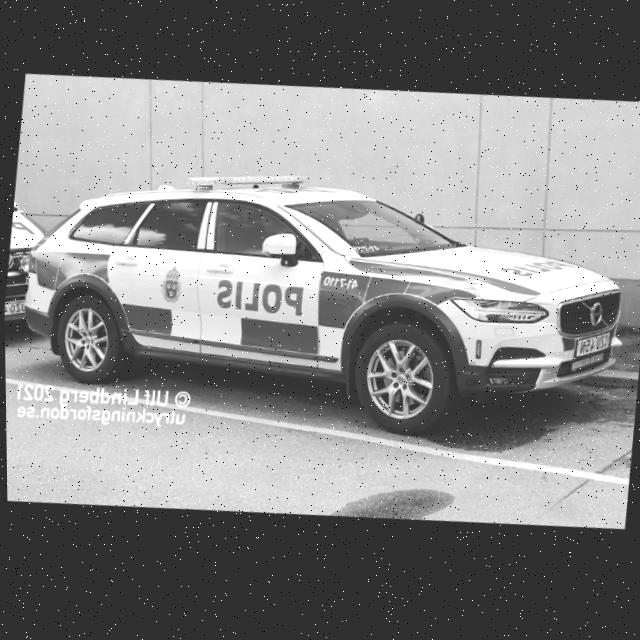license-plates: (575, 332, 615, 356)
